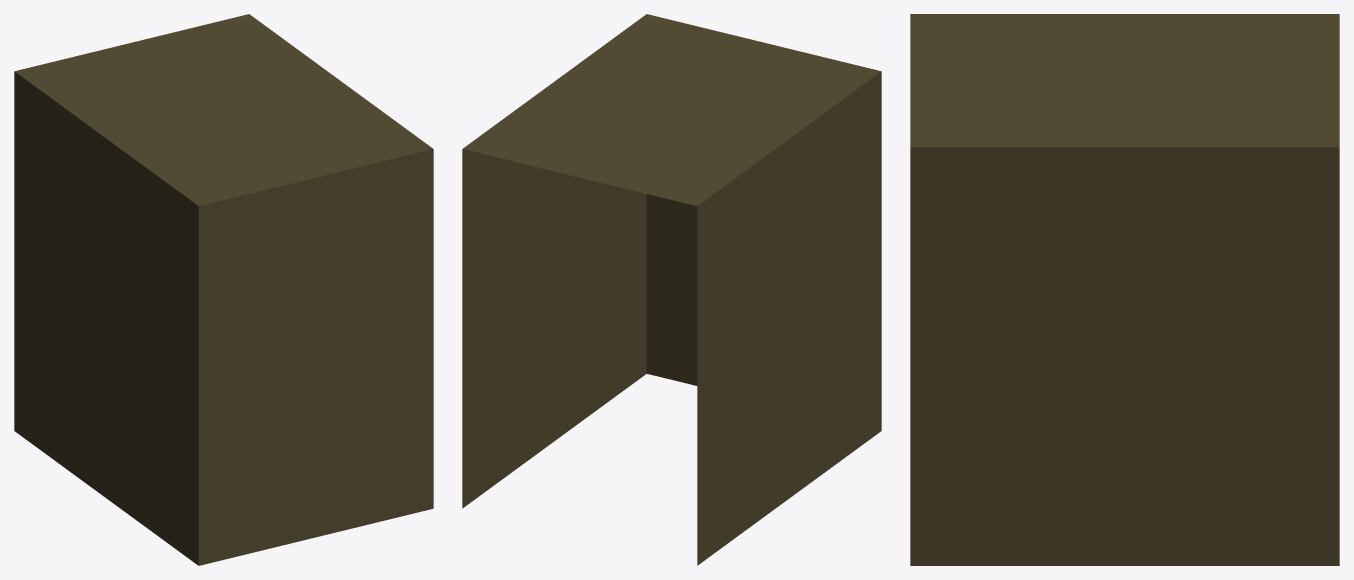
File: Build_2.FBX
The picture shows the model from 3 angles, left to right: view 1: azimuth 30°, elevation 25°; view 2: azimuth 150°, elevation 25°; view 3: azimuth 270°, elevation 25°; orthographic projection. The views are drawn at different scales.
Parts seen in each view (by area): view 1: Building_02; view 2: Building_02; view 3: Building_02.
Part boxes in pixels (bbox=[...]): Building_02: bbox=[14, 14, 433, 565]; Building_02: bbox=[462, 14, 881, 565]; Building_02: bbox=[910, 14, 1339, 565].
Size of the model in its own units: 823 by 1206 by 1120.
